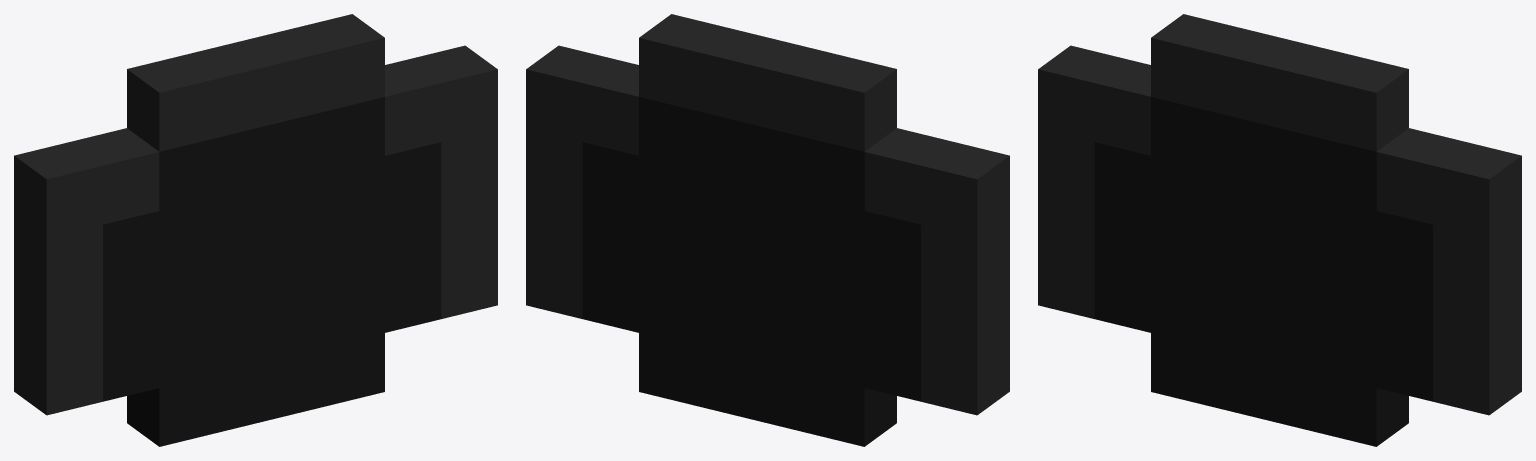
File: talaspa1.obj
The picture shows the model from 3 angles, left to right: view 1: azimuth 30°, elevation 25°; view 2: azimuth 150°, elevation 25°; view 3: azimuth 330°, elevation 25°; orthographic projection.
Parts seen in each view (by area): view 1: Taladropart.013; view 2: Taladropart.013; view 3: Taladropart.013.
Boxes of the visible parts, x1,y1,x2,y2 form: Taladropart.013: (14,14,497,446); Taladropart.013: (526,14,1009,446); Taladropart.013: (1038,14,1521,446).
Size of the model in its own units: 0.8 by 0.6 by 0.1.
